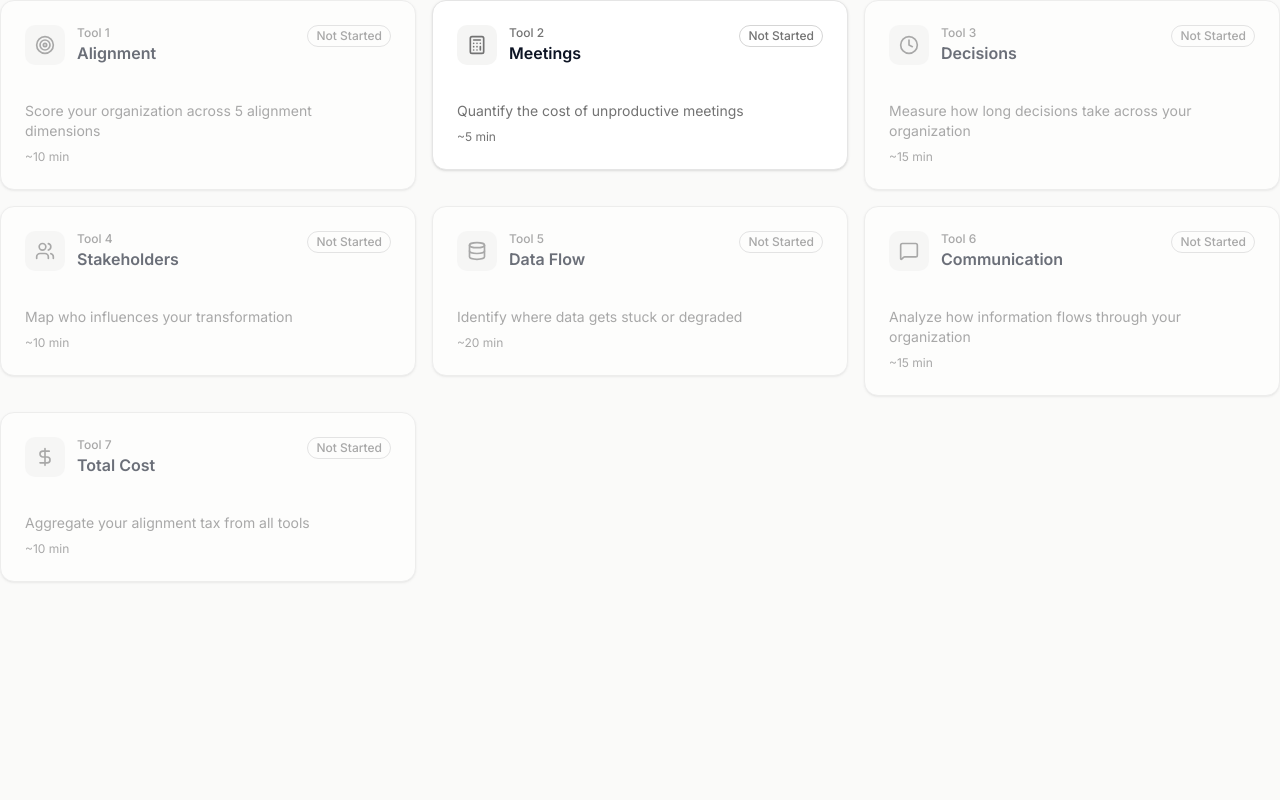
Test: ToolGrid › anonymous user › shows auth dialog when disabled tool is clicked
Click the button "Alignment" at coordinates (208, 95), box [0,0,416,190]
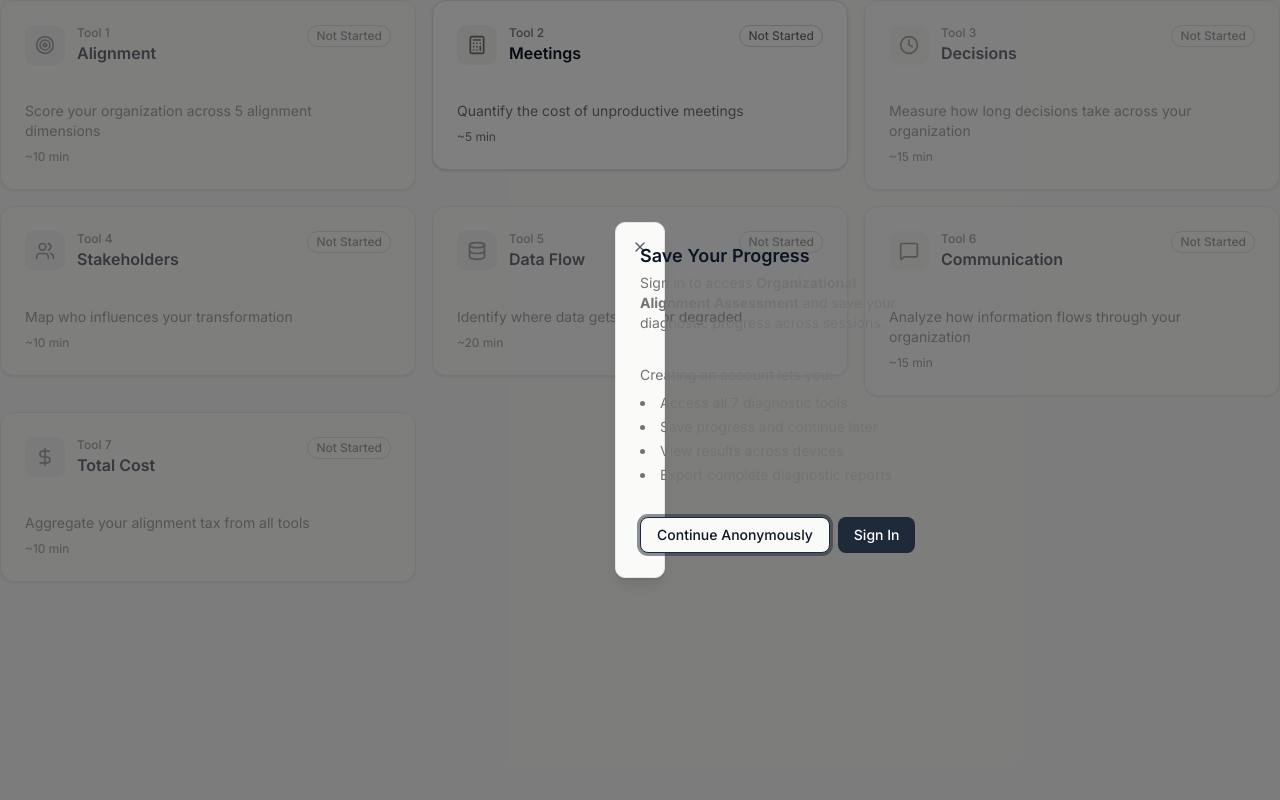
Now the dialog is shown, box [615,222,665,578]
Now the heading "Save Your Progress" is shown, box [640,245,810,266]
Now the text "Sign in to access" is shown, box [640,274,756,291]
